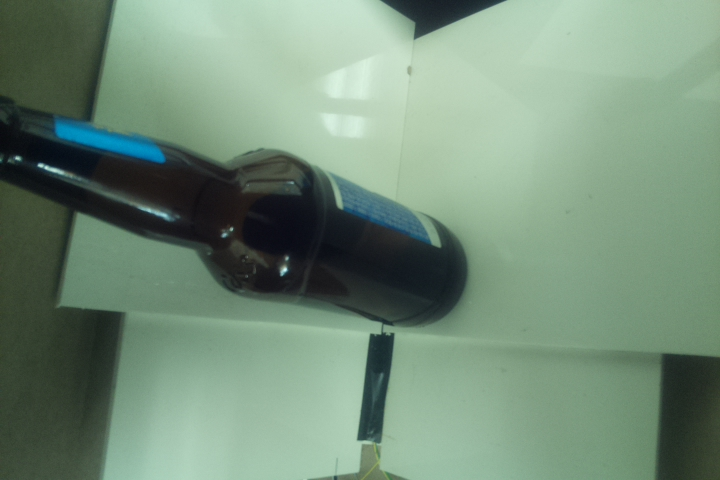makju: (1, 92, 470, 330)
